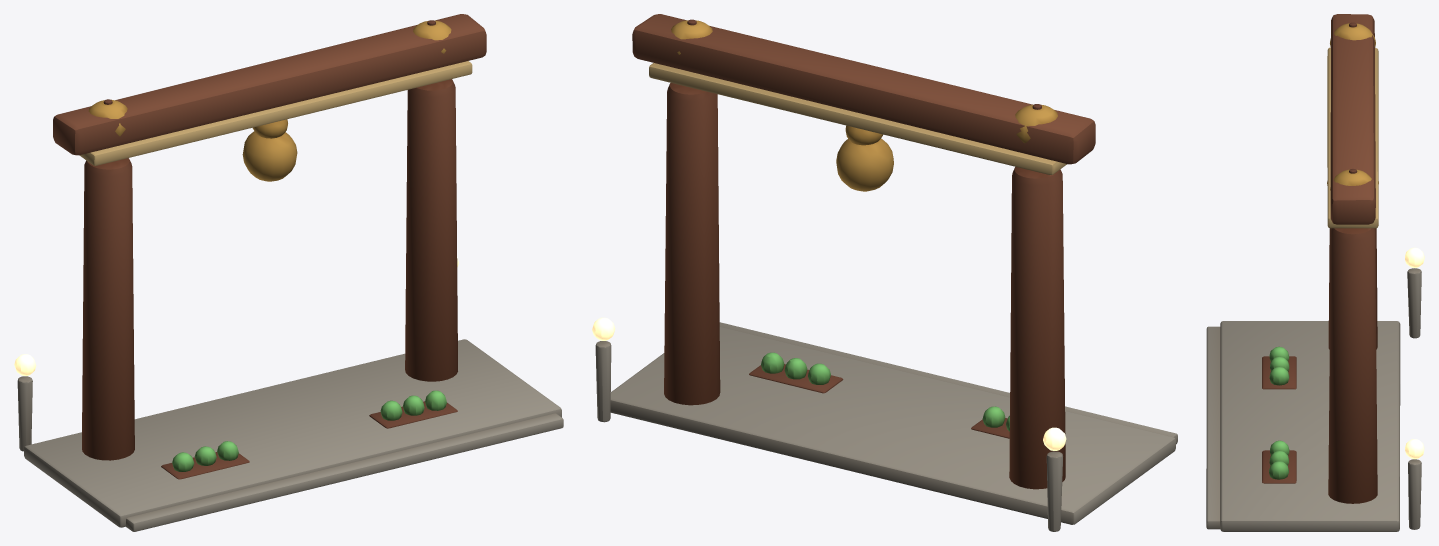
The picture shows the model from 3 angles, left to right: view 1: azimuth 30°, elevation 25°; view 2: azimuth 150°, elevation 25°; view 3: azimuth 270°, elevation 25°; orthographic projection. The views are drawn at different scales.
Parts seen in each view (by area): view 1: gate_6f06529b; view 2: gate_6f06529b; view 3: gate_6f06529b.
Part boxes in pixels (bbox=[...]): gate_6f06529b: bbox=[14, 14, 563, 531]; gate_6f06529b: bbox=[592, 14, 1177, 531]; gate_6f06529b: bbox=[1206, 14, 1424, 531].
Bounding box in the file's own units: 5.54 × 4.33 × 2.55.
